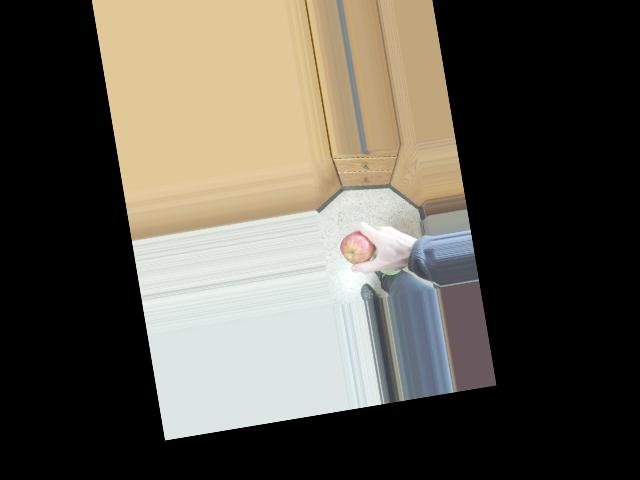apple: (336, 226, 382, 271)
